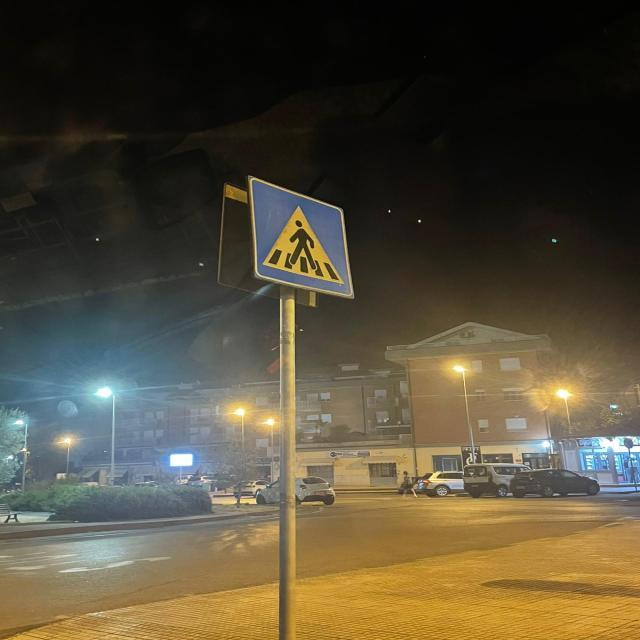info_crosswalk: (247, 176, 361, 301)
